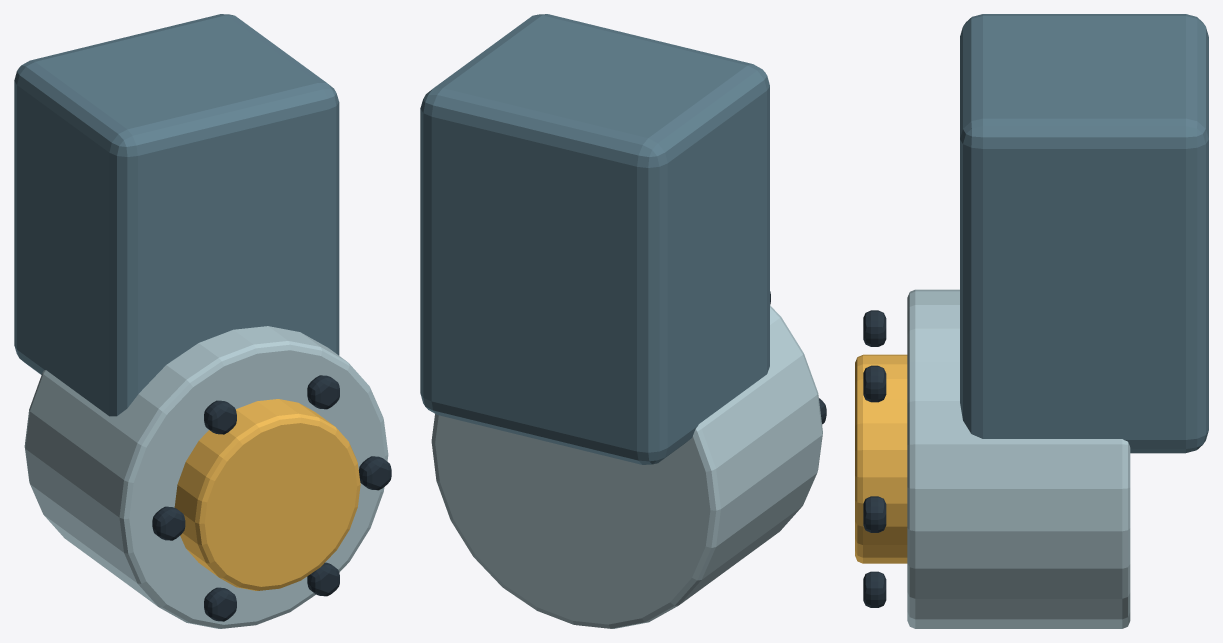
Rendered from SM_TrapMotor.fbx.
3 renders of one model, left to right at view 1: azimuth 30°, elevation 25°; view 2: azimuth 150°, elevation 25°; view 3: azimuth 270°, elevation 25°, orthographic. The views are drawn at different scales.
Visible parts, largest first — view 1: SM_TrapMotor; view 2: SM_TrapMotor; view 3: SM_TrapMotor.
Boxes of the visible parts, left/top/right/bottom form: SM_TrapMotor: left=14, top=14, right=391, bottom=628; SM_TrapMotor: left=420, top=14, right=826, bottom=628; SM_TrapMotor: left=855, top=14, right=1208, bottom=628.
Bounding box in the file's own units: 52 × 54 × 92.
